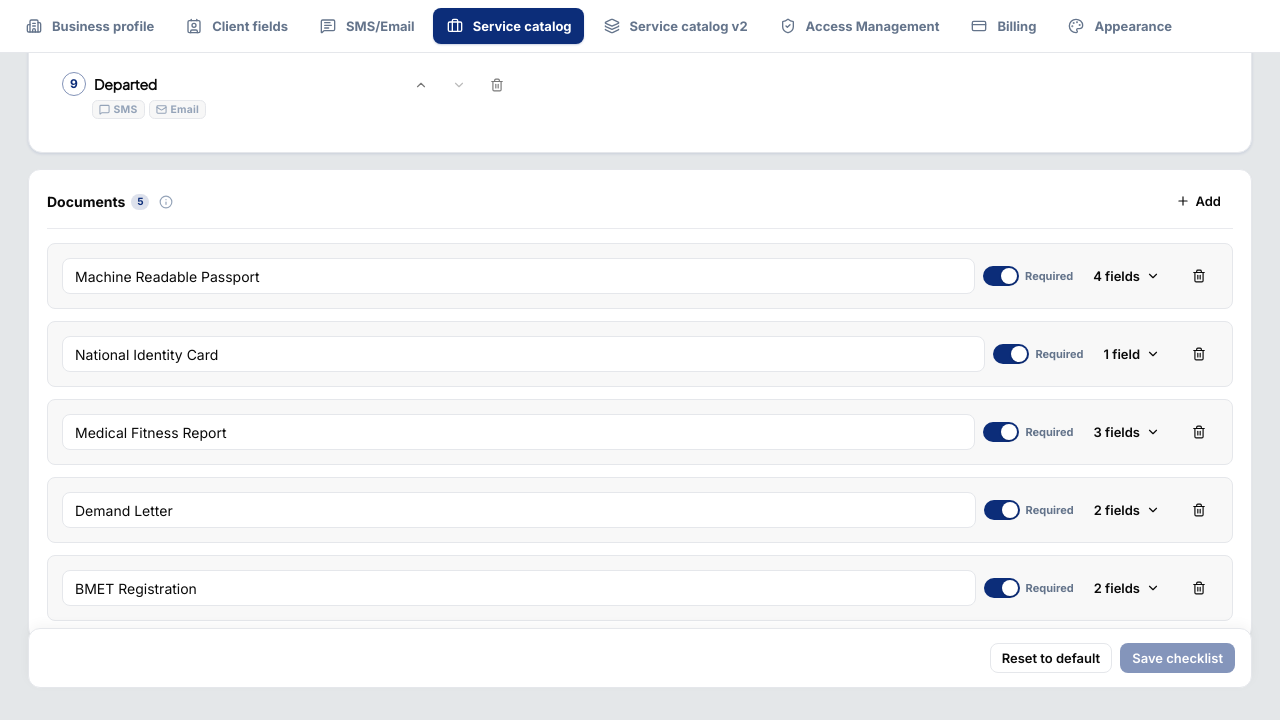
Test: settings service catalog › lists auto branches from a document dropdown to wire
(page scrolled)
Expected: the button "Save checklist" is shown, [1120,643,1235,673]
Click the button with aria-label "set fields for medical" at [1127, 432], box [1082,417,1172,447]
(page scrolled)
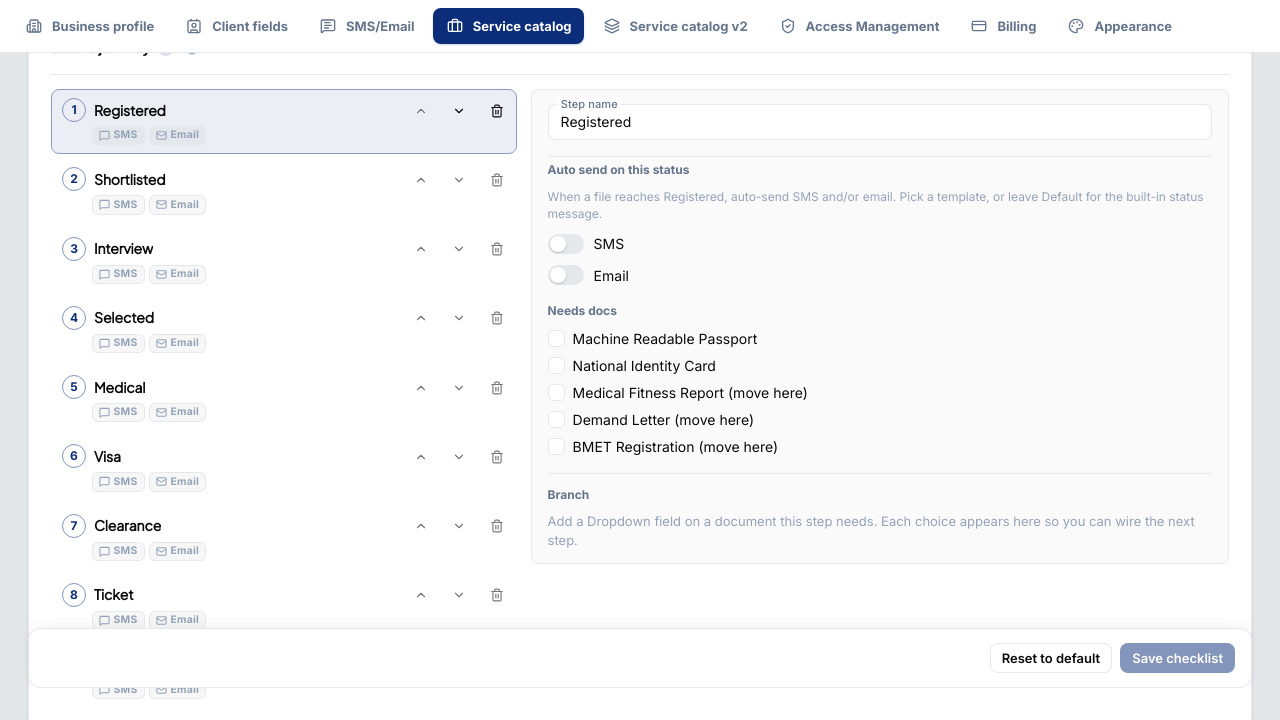
Medical Result is already a Fit/Unfit dropdown. Slots appear on Medical.
Click the button "5 Medical" at [120, 387], box [60,373,392,399]
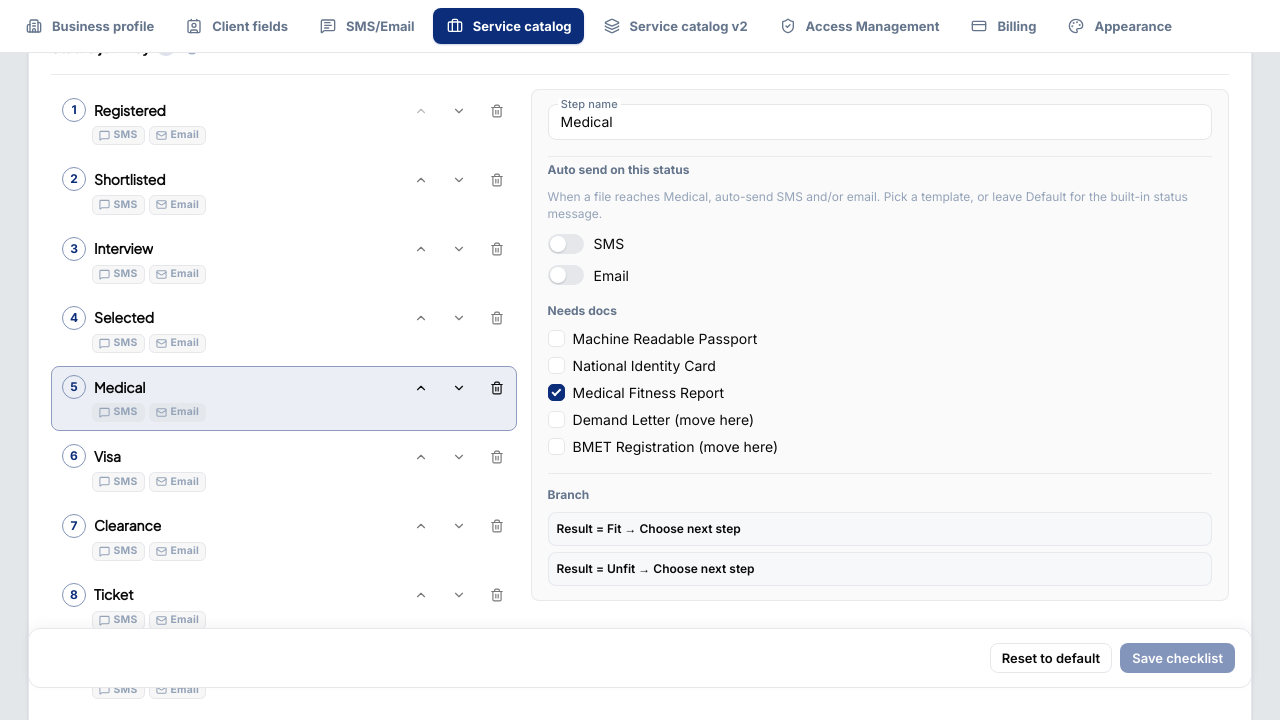
Result: the text "Branch" is shown at [548,486,589,504]
Click the button "Result = Fit → Choose next step" at [575, 528], box [557,519,1203,539]
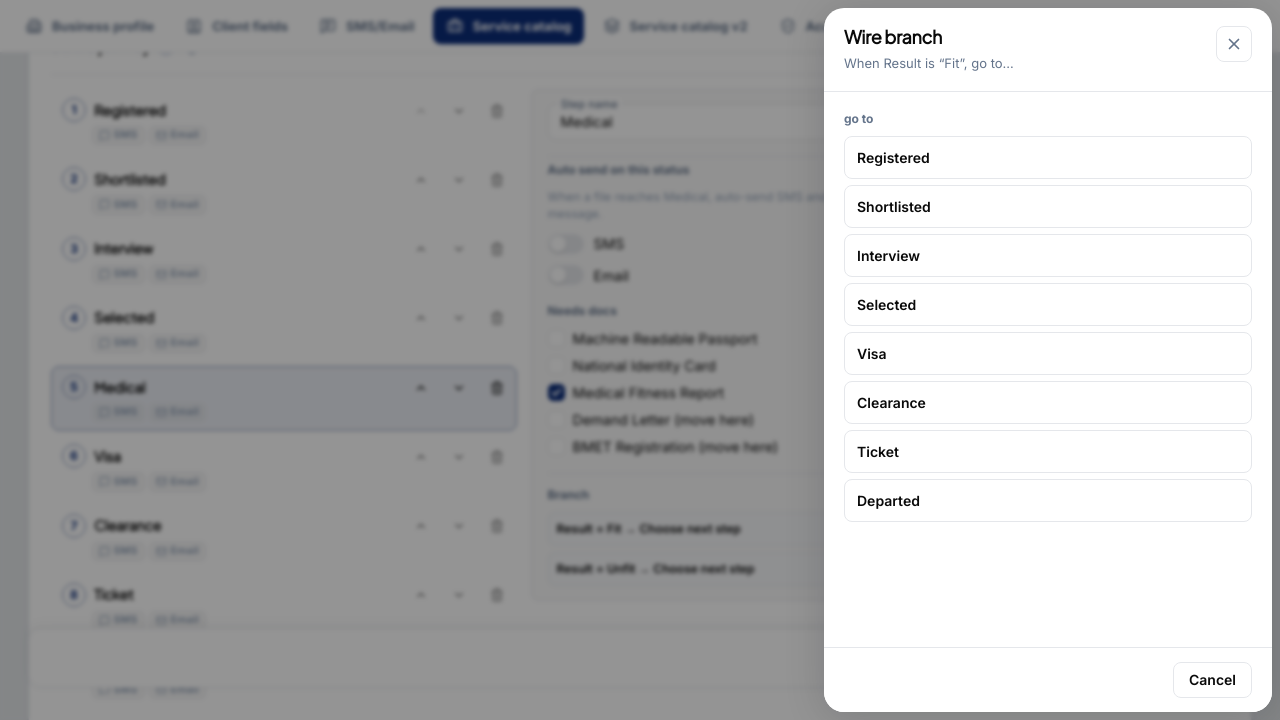
Result: the dialog is shown at [824,8,1272,712]
Result: the element named "Branch next step" is shown at [844,136,1252,522]
